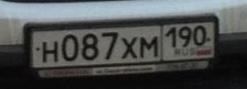license-plateSW: (27, 24, 220, 65)
